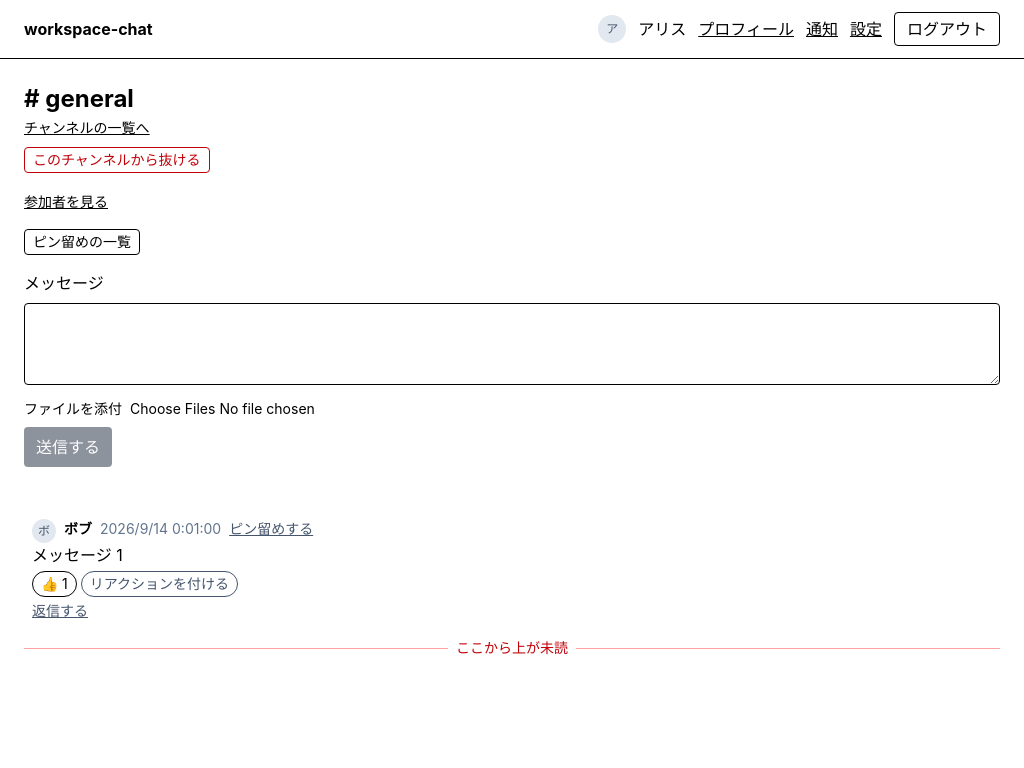
Test: リアクションの付け外し（F-18） › 付けるのが reaction_limit_reached で断られたら理由を出す
Click the button named "👍 1人" at (54, 584), box [32,571,77,597]
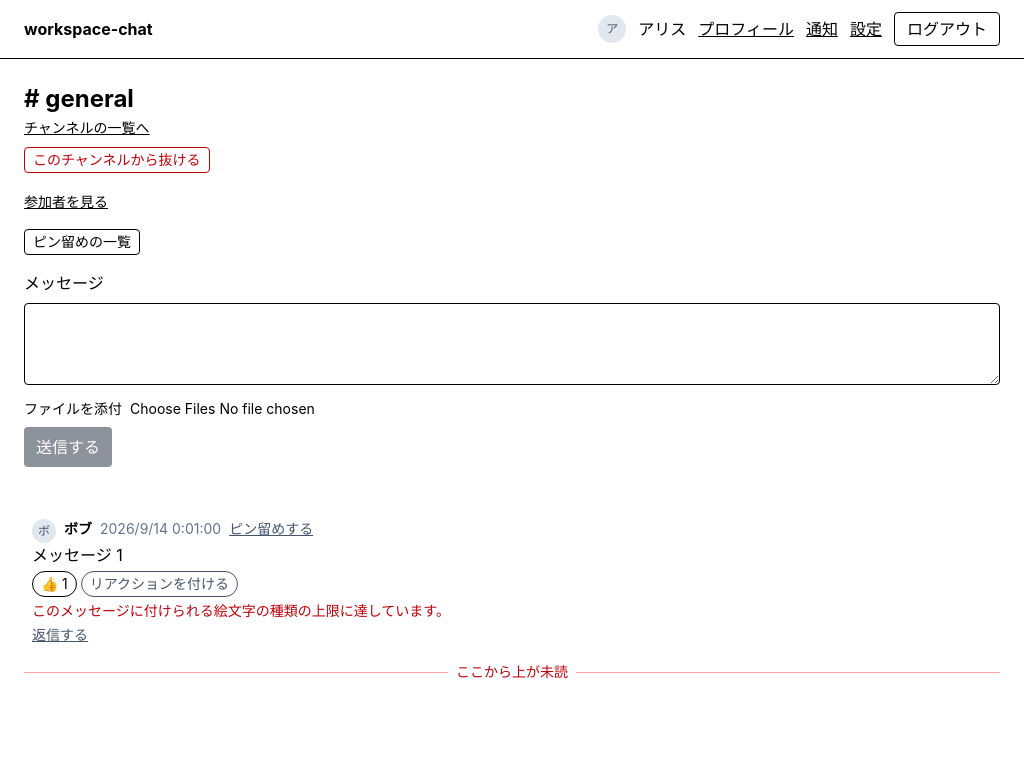
Expected: the message "このメッセージに付けられる絵文字の種類の上限に達しています。" is shown, [32,602,450,619]
